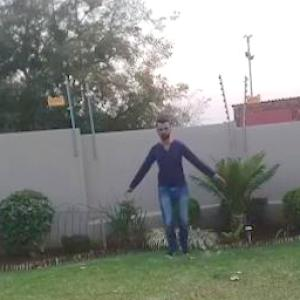land: (111, 116, 230, 271)
